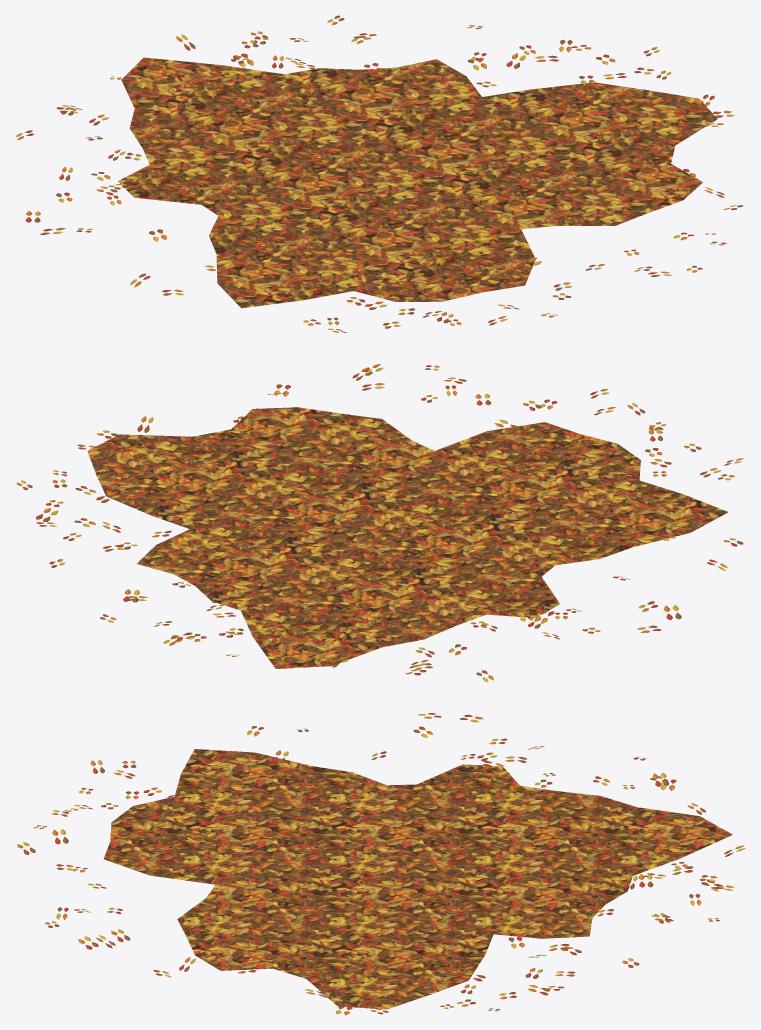
File: alfombra_hojas.gltf
3 renders of one model, top to bottom at view 1: azimuth 30°, elevation 25°; view 2: azimuth 150°, elevation 25°; view 3: azimuth 270°, elevation 25°, orthographic. The views are drawn at different scales.
Parts seen in each view (by area): view 1: alfombra_hojas; view 2: alfombra_hojas; view 3: alfombra_hojas.
Part boxes in pixels (x1,y1,x2,y2): alfombra_hojas: (15,15,742,332); alfombra_hojas: (16,364,743,682); alfombra_hojas: (17,713,745,1015).
Bounding box in the file's own units: 7.08 × 0.1573 × 7.18.
2 materials, 2 textured.
